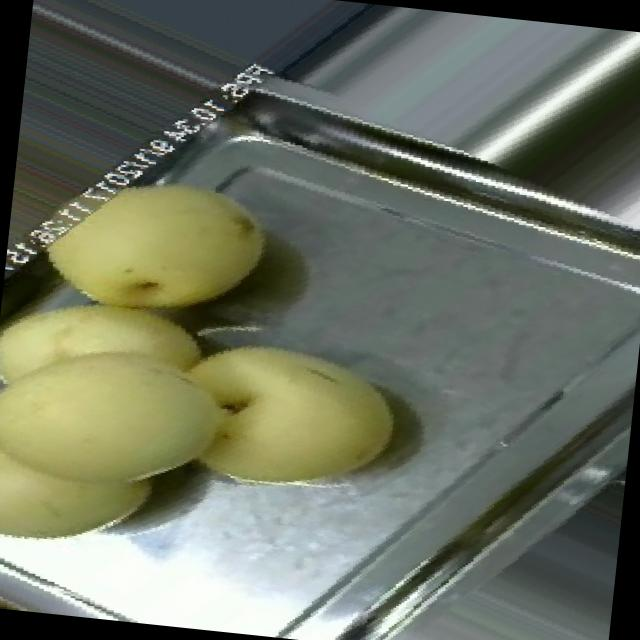Fruit: (0, 253, 252, 595), (123, 294, 427, 540), (2, 134, 297, 356)
